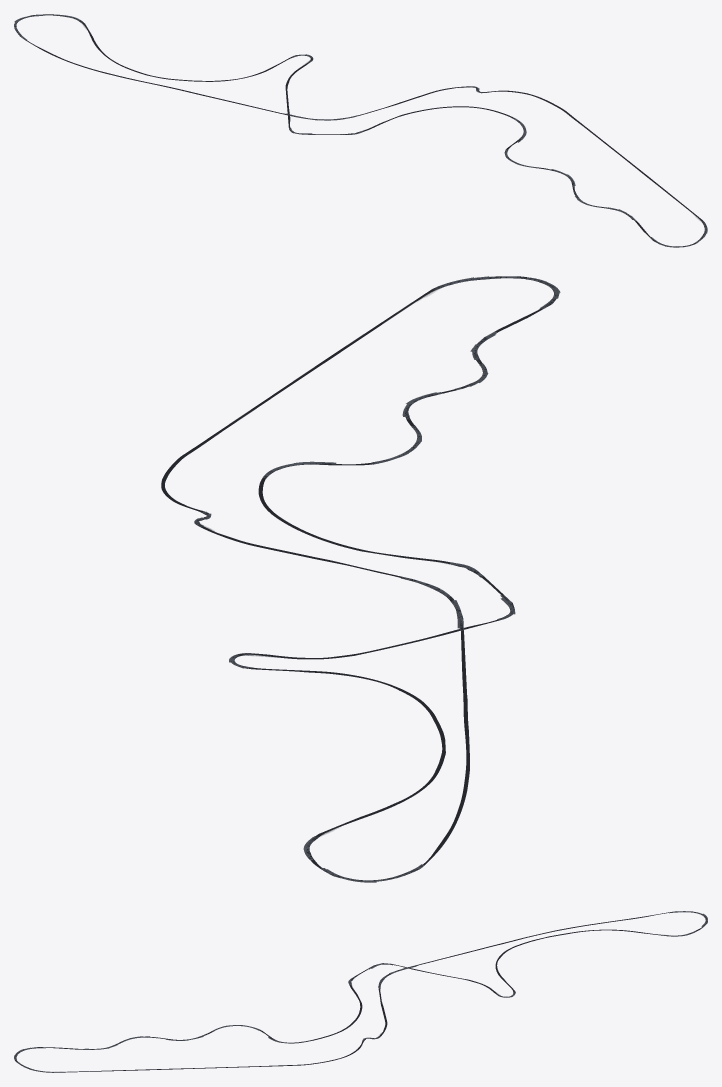
File: Suzuka_Groove.obj
3 renders of one model, top to bottom at view 1: azimuth 30°, elevation 25°; view 2: azimuth 150°, elevation 25°; view 3: azimuth 270°, elevation 25°, orthographic. The views are drawn at different scales.
Parts seen in each view (by area): view 1: suzuka_2001_groove; view 2: suzuka_2001_groove; view 3: suzuka_2001_groove.
Boxes of the visible parts, box(x1,y1,x2,y2) form: suzuka_2001_groove: box(14, 14, 707, 247); suzuka_2001_groove: box(161, 276, 560, 882); suzuka_2001_groove: box(14, 911, 707, 1072).
Bounding box in the file's own units: 1021 × 48.64 × 2006.
Materials: 3 (3 with a texture image).
